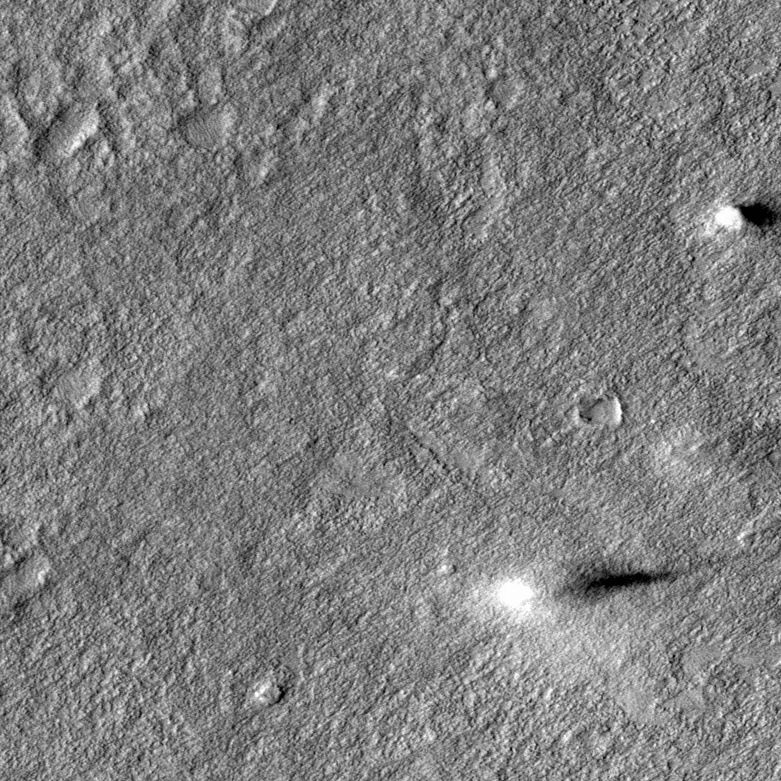dust_devil: (473, 549, 749, 628), (710, 196, 781, 234)
